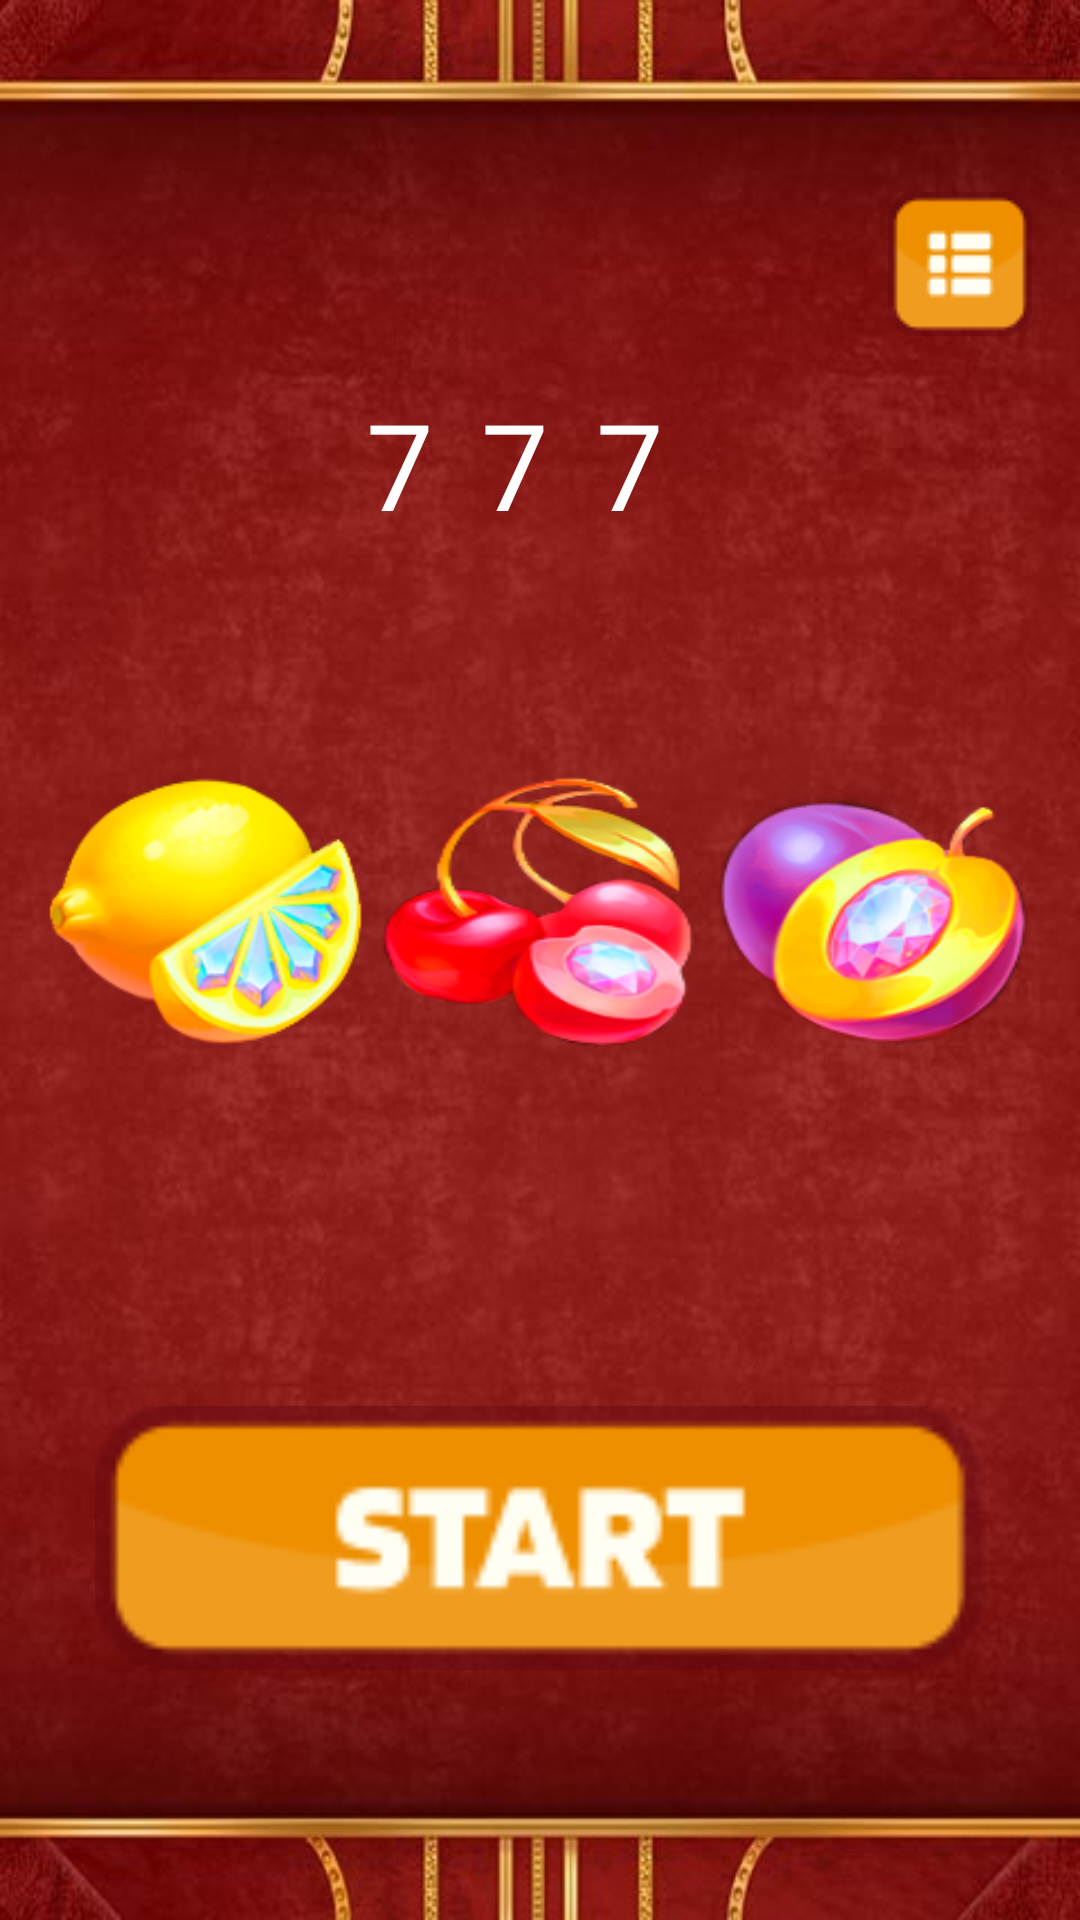

Screen size 1080x1920. Icon name, then its box in pixels as (x1, y1, x2, y2):
menu: (893, 198, 1031, 336)
